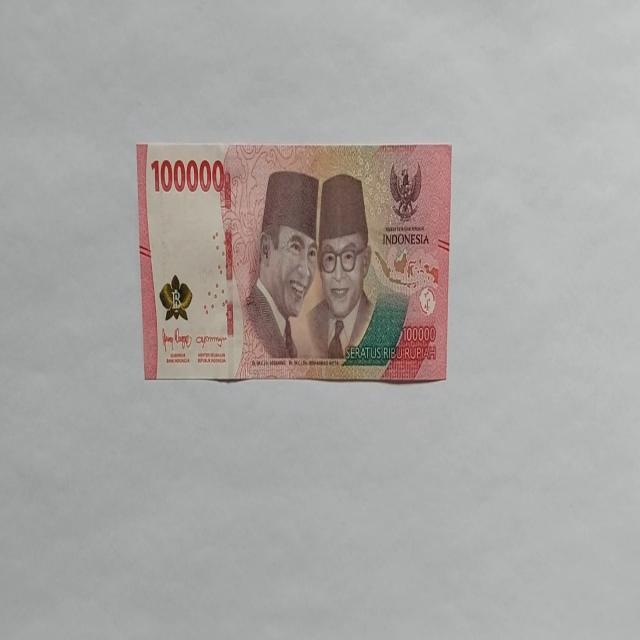seratus ribu rupiah: (136, 140, 452, 384)
